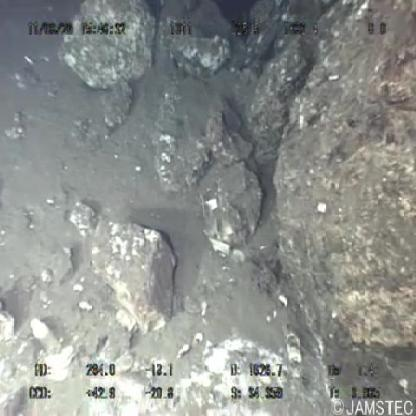Rác: (198, 191, 232, 262), (28, 314, 62, 360)
